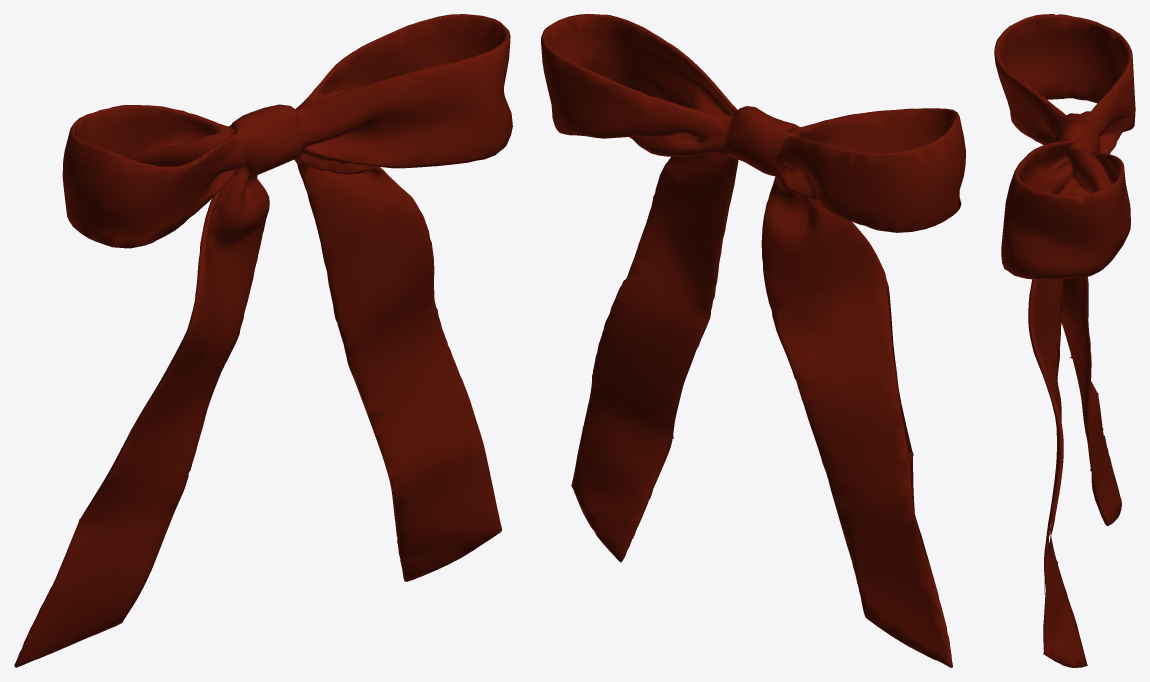
The model's file is ribon_custom_material.glb.
3 renders of one model, left to right at view 1: azimuth 30°, elevation 25°; view 2: azimuth 150°, elevation 25°; view 3: azimuth 270°, elevation 25°, orthographic. The views are drawn at different scales.
Visible parts, largest first — view 1: Mesh1.0; view 2: Mesh1.0; view 3: Mesh1.0.
Boxes of the visible parts, x1,y1,x2,y2 form: Mesh1.0: (14, 14, 512, 667); Mesh1.0: (541, 14, 965, 667); Mesh1.0: (994, 14, 1135, 667).
Bounding box in the file's own units: 0.1193 × 0.1374 × 0.0339.
